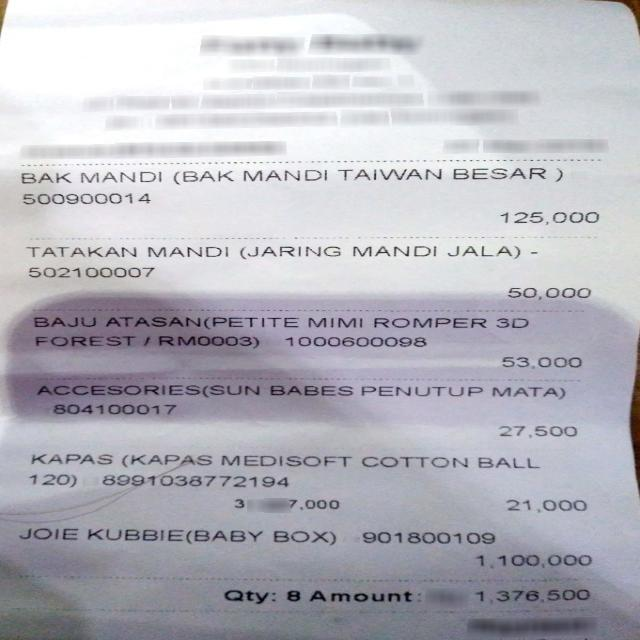kertas: (0, 2, 637, 640)
